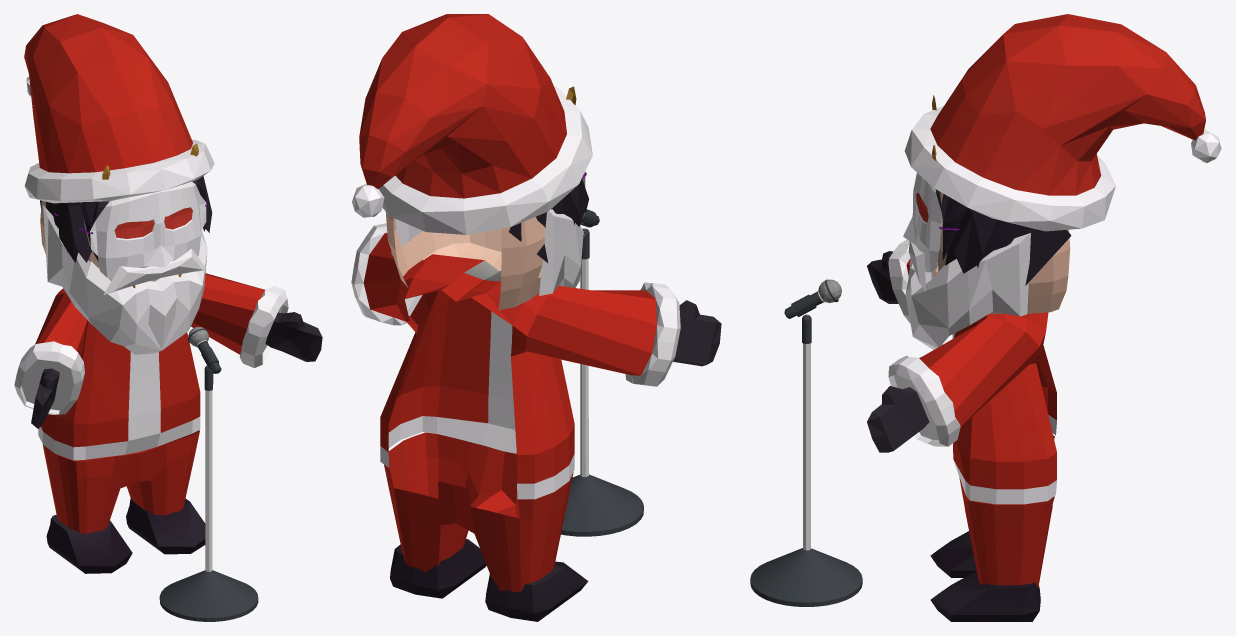
File: santa_a.glb
3 renders of one model, left to right at view 1: azimuth 30°, elevation 25°; view 2: azimuth 150°, elevation 25°; view 3: azimuth 270°, elevation 25°, orthographic. The views are drawn at different scales.
Parts seen in each view (by area): view 1: huku-a, boushi-a, hige-a, zubon-a, kao-a-men, stand, kutu-r-a, kutu-l-a, kami-a, hanahige-a, maiku; view 2: huku-a, boushi-a, zubon-a, kao-a, stand, kutu-r-a, hige-a, kutu-l-a, kami-a; view 3: boushi-a, huku-a, hige-a, stand, zubon-a, kami-a, kutu-l-a, kao-a-men, kao-a, kutu-r-a, maiku.
Part boxes in pixels (<box>): huku-a: <box>14,273,322,460</box>; boushi-a: <box>24,14,214,203</box>; hige-a: <box>43,205,207,354</box>; zubon-a: <box>42,430,199,533</box>; kao-a-men: <box>54,143,207,287</box>; stand: <box>159,365,258,621</box>; kutu-r-a: <box>46,514,132,573</box>; kutu-l-a: <box>126,498,205,554</box>; kami-a: <box>40,176,212,262</box>; hanahige-a: <box>104,248,206,294</box>; maiku: <box>188,326,221,373</box>; huku-a: <box>351,223,721,499</box>; boushi-a: <box>352,14,592,234</box>; zubon-a: <box>384,432,573,592</box>; kao-a: <box>385,212,545,310</box>; stand: <box>561,228,643,536</box>; kutu-r-a: <box>485,561,588,621</box>; hige-a: <box>391,209,583,295</box>; kutu-l-a: <box>390,539,486,598</box>; kami-a: <box>509,178,588,262</box>; boushi-a: <box>904,14,1221,231</box>; huku-a: <box>867,239,1056,504</box>; hige-a: <box>905,233,1030,349</box>; stand: <box>750,314,862,606</box>; zubon-a: <box>959,435,1054,587</box>; kami-a: <box>941,194,1071,285</box>; kutu-l-a: <box>930,571,1040,621</box>; kao-a-men: <box>903,95,959,272</box>; kao-a: <box>931,192,1070,313</box>; kutu-r-a: <box>930,531,976,577</box>; maiku: <box>784,279,841,318</box>.
Bounding box in the file's own units: 5.44 × 9.12 × 6.9.
Materials: 18 (17 with a texture image).
